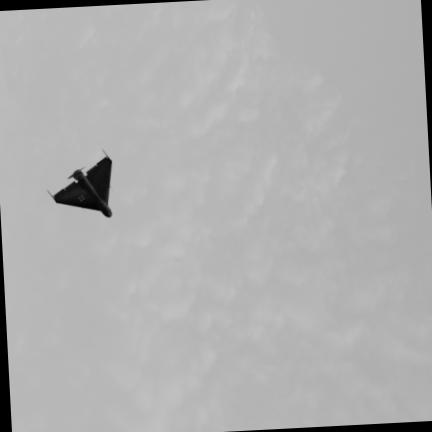Shahed: (52, 154, 111, 217)
